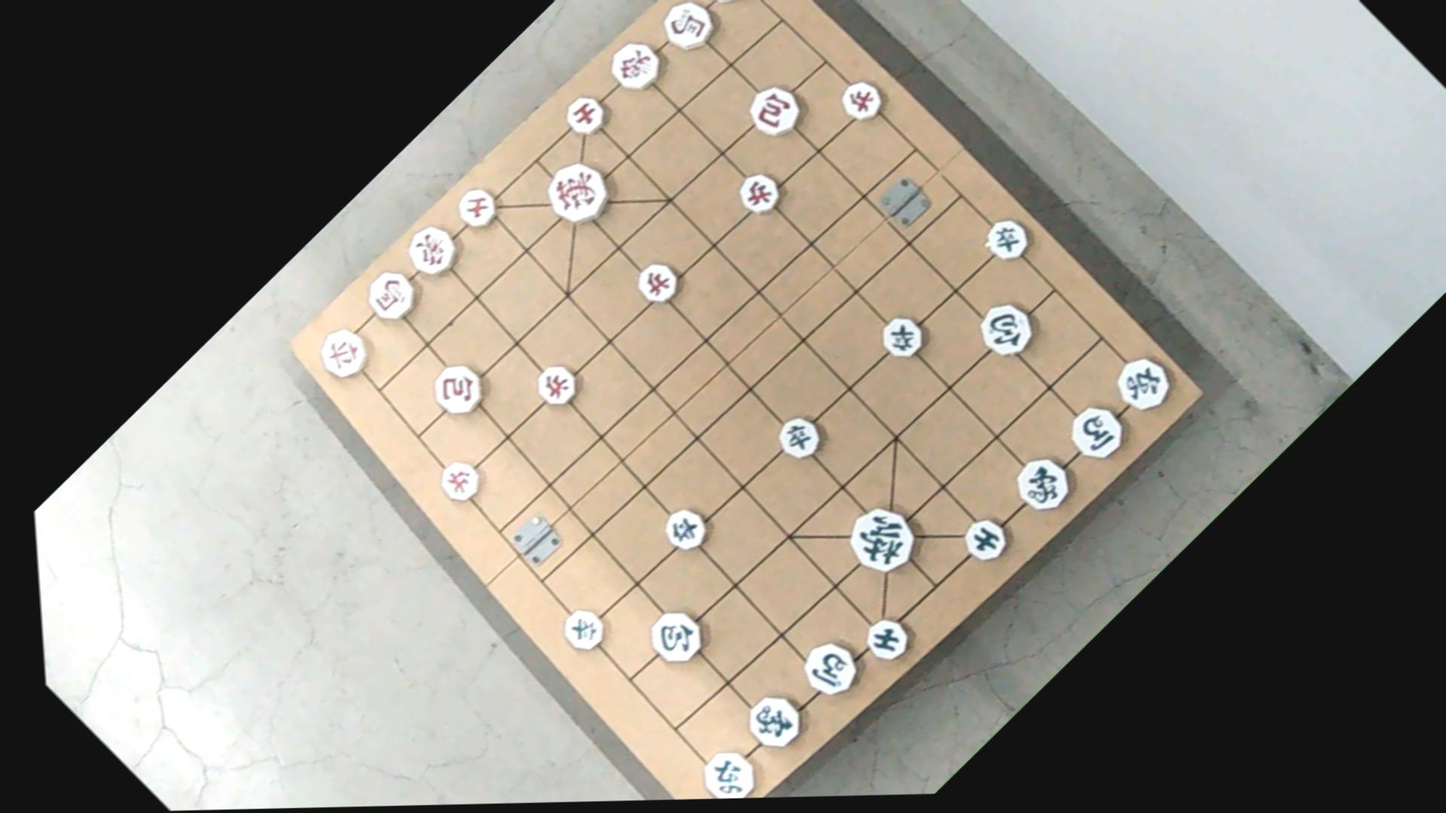cha_green: (1107, 346, 1185, 419), (694, 742, 768, 799)
cha_red: (307, 320, 378, 386), (691, 0, 762, 13)
jol_green: (868, 310, 931, 369), (769, 408, 831, 466), (976, 212, 1037, 269), (657, 500, 717, 556), (554, 604, 612, 657)
jol_red: (630, 254, 689, 310), (732, 164, 791, 220), (528, 358, 586, 413), (432, 452, 490, 507), (834, 72, 892, 126)
ma_green: (792, 633, 871, 708), (1062, 394, 1139, 467)
ma_red: (356, 263, 427, 329), (654, 0, 726, 58)
po_green: (966, 291, 1045, 366), (639, 599, 716, 671)
po_red: (740, 75, 813, 143), (425, 358, 495, 424)
sa_green: (856, 610, 917, 668), (957, 508, 1018, 565)
sa_red: (555, 87, 613, 142), (451, 181, 507, 234)
sang_green: (1008, 446, 1085, 519), (738, 688, 814, 760)
sang_red: (602, 30, 673, 97), (397, 220, 468, 287)
wang_green: (837, 497, 928, 581)
wang_red: (535, 153, 621, 234)
